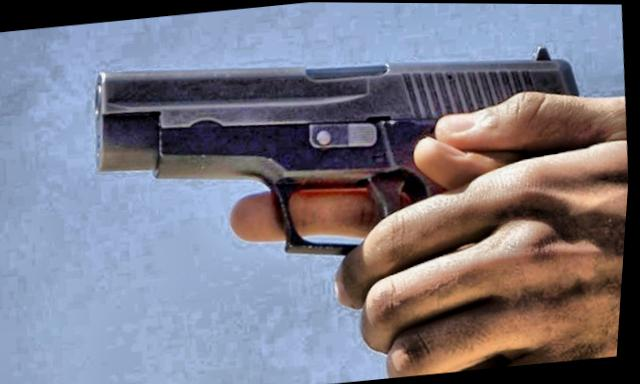pistol: (78, 11, 615, 384)
